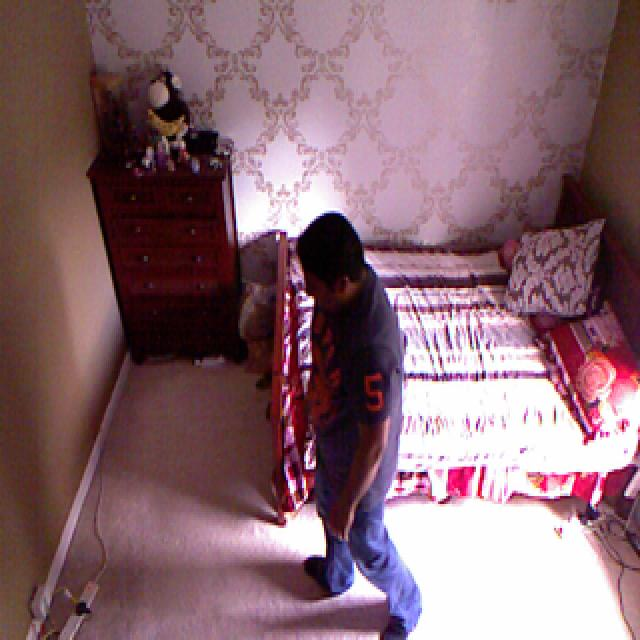standing: (288, 210, 435, 640)
